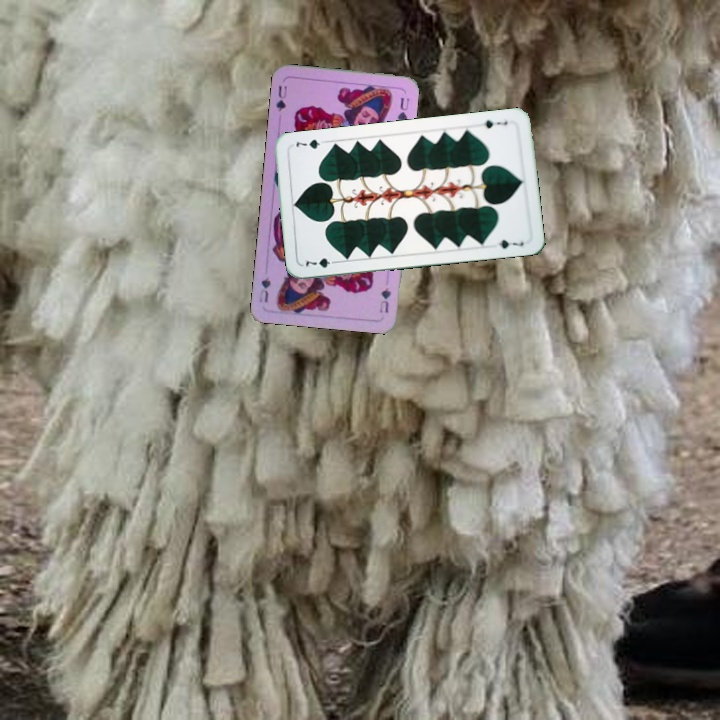G7: (301, 254, 341, 270), (480, 116, 510, 131)
GU: (272, 81, 290, 113), (376, 284, 393, 315)
